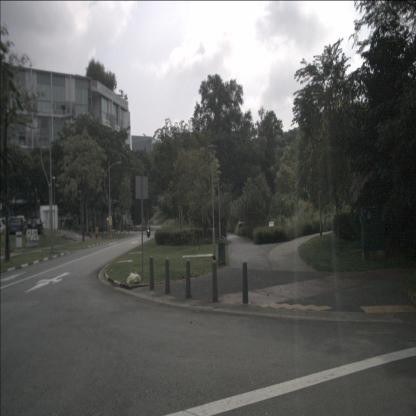vehicle-car: (27, 216, 44, 236), (7, 217, 25, 235), (0, 218, 8, 237)
vehicle-motorcycle: (146, 221, 150, 238)
